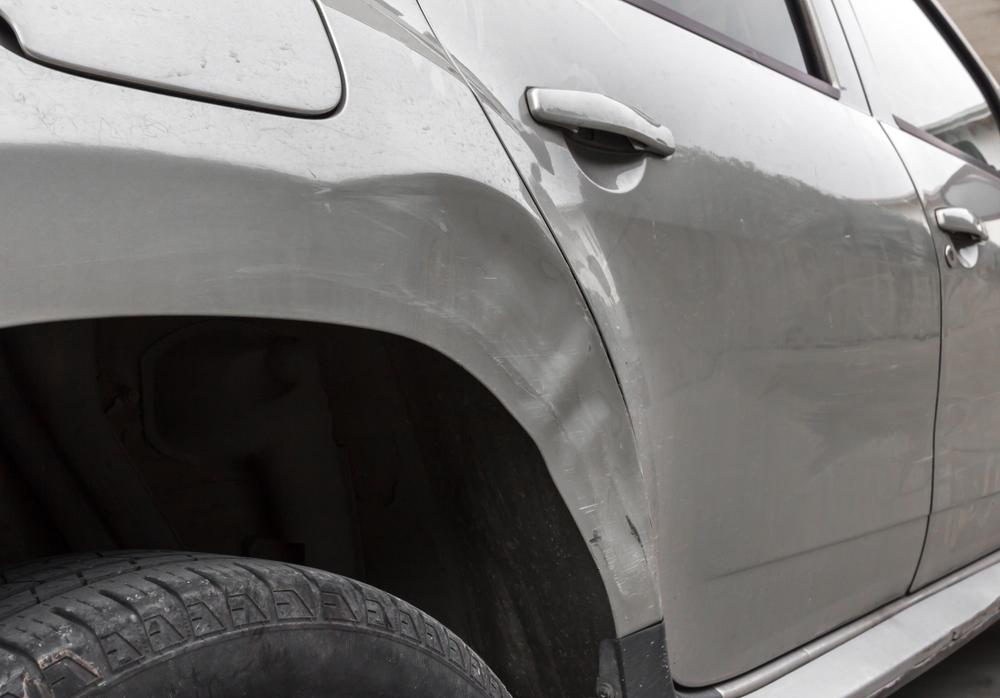dent: (288, 173, 661, 591)
